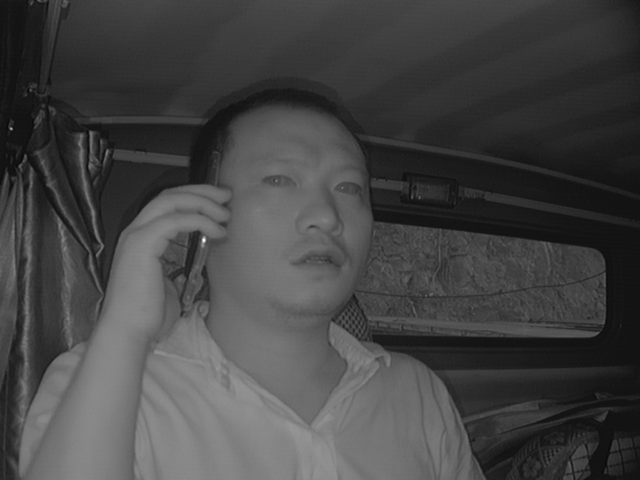hand: (97, 180, 230, 336)
